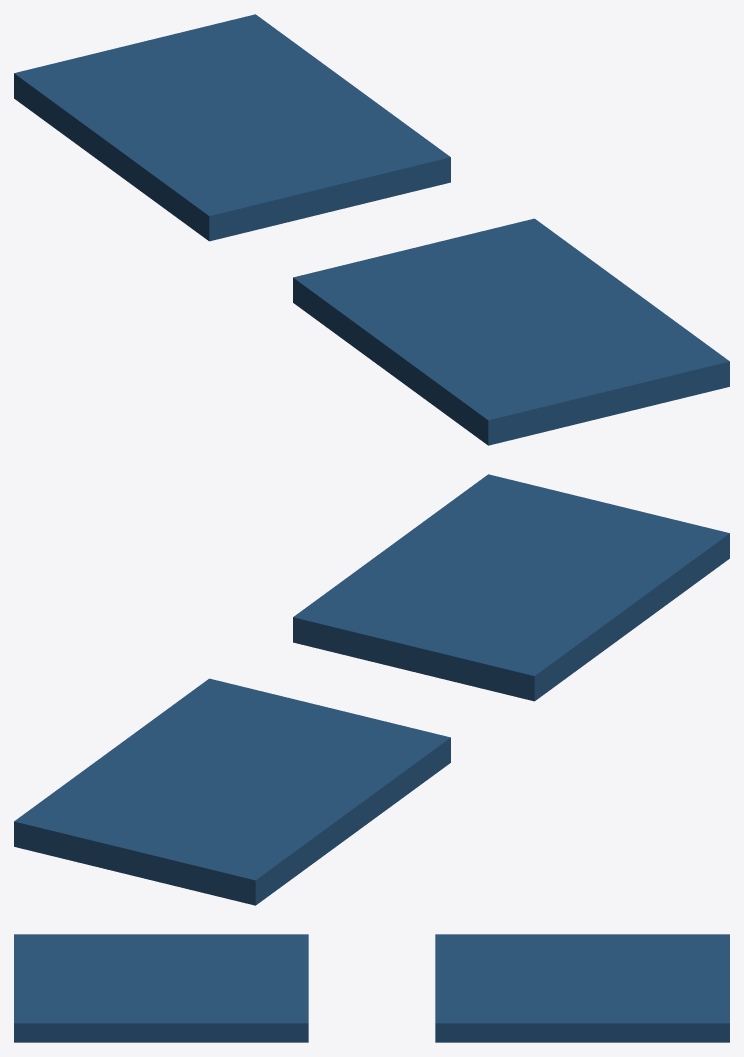
Rendered from boat20_battery.obj.
3 renders of one model, top to bottom at view 1: azimuth 30°, elevation 25°; view 2: azimuth 150°, elevation 25°; view 3: azimuth 270°, elevation 25°, orthographic. The views are drawn at different scales.
Parts seen in each view (by area): view 1: boat20_battery; view 2: boat20_battery; view 3: boat20_battery.
Boxes of the visible parts, box(x1,y1,x2,y2) form: boat20_battery: box(14, 14, 729, 445); boat20_battery: box(14, 474, 729, 905); boat20_battery: box(14, 934, 729, 1042).
Size of the model in its own units: 1 by 0.106 by 3.4.
